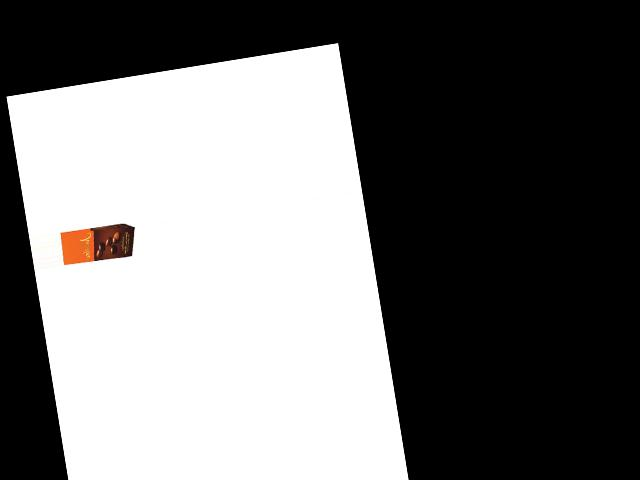chocolate: (59, 219, 138, 271)
